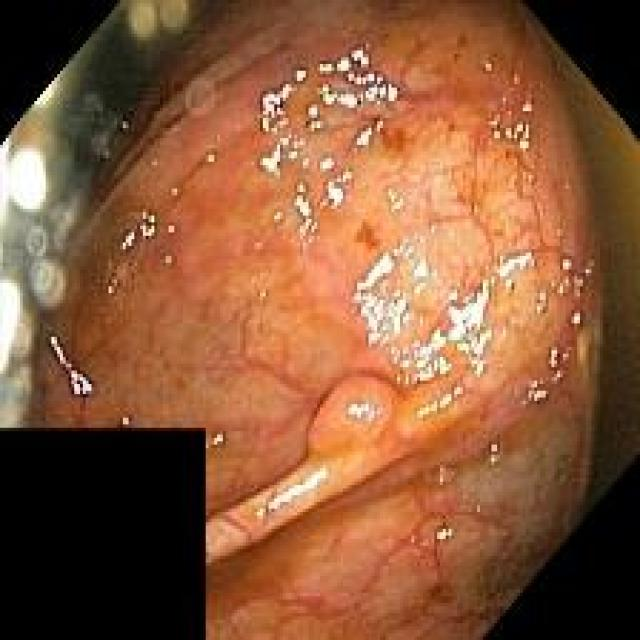Polyps: (348, 401, 381, 422)
